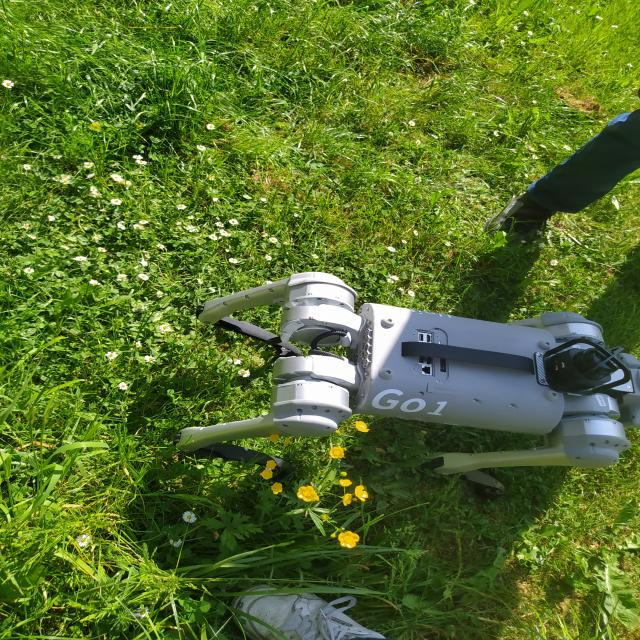unitree-go1-robot: (163, 265, 640, 507)
